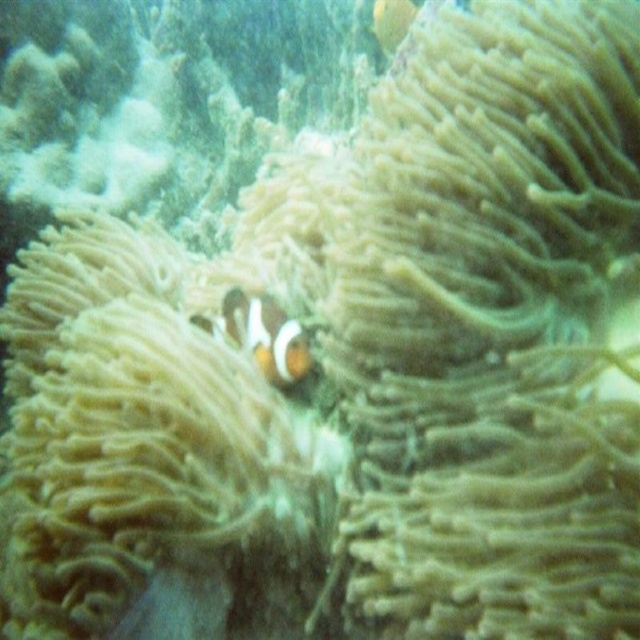Fish: (188, 296, 315, 391), (372, 0, 424, 55)
